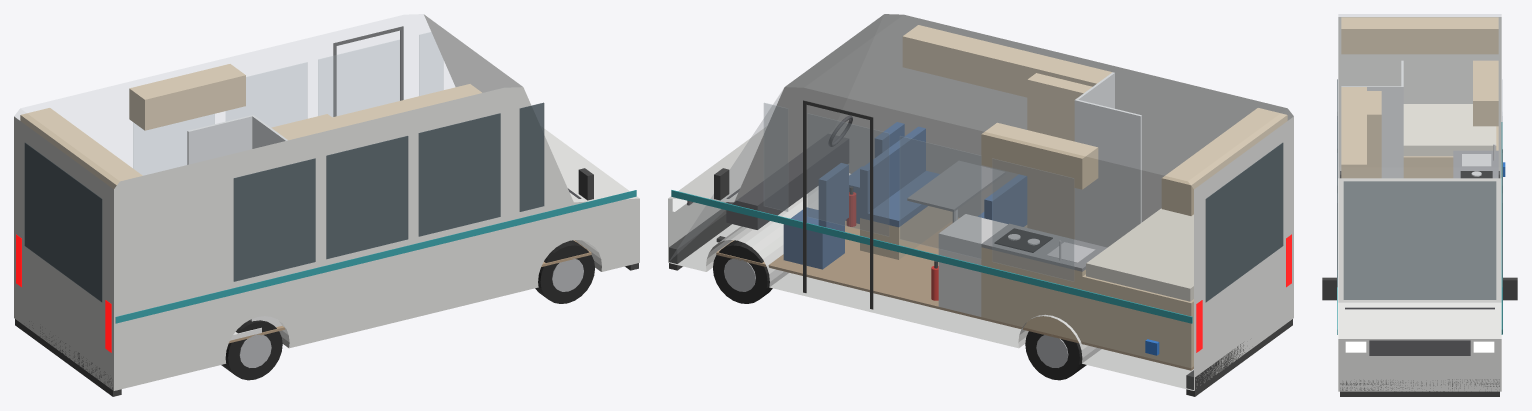
Rendered from force_traveller26_4020wb.glb.
3 renders of one model, left to right at view 1: azimuth 30°, elevation 25°; view 2: azimuth 150°, elevation 25°; view 3: azimuth 270°, elevation 25°, orthographic. The views are drawn at different scales.
Visible parts, largest first — view 1: Body_Shell, Body_Cutaway_LeftWall_Roof, Window_Right_2, Window_Right_0, Window_Right_1, Window_Rear, Storage_Overhead_Left_Kitchen, Window_Left_0, Stripe_Right, Window_Left_1, Storage_Overhead_Rear, Window_Cab_Right (+10 smaller); view 2: Body_Cutaway_LeftWall_Roof, Body_Shell, Window_Left_1, Window_Left_2, Window_Rear, Window_Left_0, WetRoom_Wall_Side, Storage_Overhead_Right, Bed_Platform_Fixed_Rear, Bed_Mattress_Double, Kitchen_Base_Cabinets, Floor_Living (+27 smaller); view 3: Body_Shell, Body_Cutaway_LeftWall_Roof, Windscreen, Storage_Overhead_Rear, Bed_Mattress_Double, Storage_Overhead_Right, WetRoom_Wall_Front, Storage_Overhead_Left_Kitchen, Grille, Storage_Wardrobe_Tall, Bumper_Front, Bed_Platform_Fixed_Rear (+9 smaller).
Boxes of the visible parts, x1=… form: Body_Shell: x1=14, y1=14, x2=639, y2=390; Body_Cutaway_LeftWall_Roof: x1=14, y1=14, x2=521, y2=188; Window_Right_2: x1=233, y1=158, x2=315, y2=281; Window_Right_0: x1=418, y1=113, x2=500, y2=236; Window_Right_1: x1=326, y1=136, x2=408, y2=259; Window_Rear: x1=24, y1=142, x2=102, y2=302; Storage_Overhead_Left_Kitchen: x1=129, y1=64, x2=245, y2=130; Window_Left_0: x1=318, y1=40, x2=399, y2=116; Stripe_Right: x1=115, y1=190, x2=636, y2=323; Window_Left_1: x1=226, y1=62, x2=307, y2=127; Storage_Overhead_Rear: x1=20, y1=108, x2=142, y2=189; Window_Cab_Right: x1=519, y1=102, x2=544, y2=211; Body_Cutaway_LeftWall_Roof: x1=668, y1=14, x2=1292, y2=390; Body_Shell: x1=668, y1=14, x2=1293, y2=390; Window_Left_1: x1=900, y1=136, x2=981, y2=258; Window_Left_2: x1=992, y1=158, x2=1073, y2=281; Window_Rear: x1=1205, y1=142, x2=1283, y2=302; Window_Left_0: x1=807, y1=113, x2=888, y2=236; WetRoom_Wall_Side: x1=1074, y1=99, x2=1141, y2=247; Storage_Overhead_Right: x1=902, y1=25, x2=1112, y2=97; Bed_Platform_Fixed_Rear: x1=1082, y1=274, x2=1193, y2=368; Bed_Mattress_Double: x1=1086, y1=208, x2=1193, y2=301; Kitchen_Base_Cabinets: x1=981, y1=247, x2=1085, y2=341; Floor_Living: x1=716, y1=217, x2=1193, y2=370; Body_Shell: x1=1338, y1=17, x2=1501, y2=391; Body_Cutaway_LeftWall_Roof: x1=1338, y1=14, x2=1501, y2=177; Windscreen: x1=1343, y1=181, x2=1496, y2=299; Storage_Overhead_Rear: x1=1341, y1=17, x2=1498, y2=54; Bed_Mattress_Double: x1=1403, y1=104, x2=1496, y2=156; Storage_Overhead_Right: x1=1341, y1=87, x2=1366, y2=178; WetRoom_Wall_Front: x1=1341, y1=86, x2=1403, y2=178; Storage_Overhead_Left_Kitchen: x1=1473, y1=60, x2=1498, y2=126; Grille: x1=1369, y1=340, x2=1470, y2=355; Storage_Wardrobe_Tall: x1=1367, y1=91, x2=1381, y2=178; Bumper_Front: x1=1340, y1=379, x2=1499, y2=396; Bed_Platform_Fixed_Rear: x1=1403, y1=126, x2=1498, y2=178.
Bounding box in the file's own units: 6.78 × 2.87 × 2.66.
